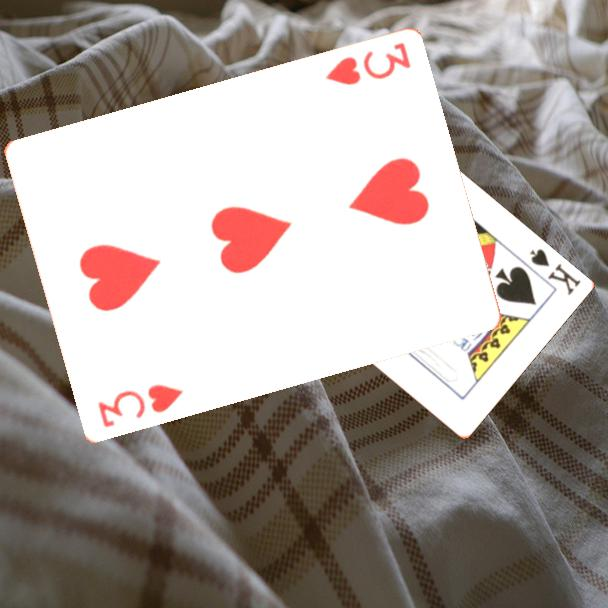h03: (321, 39, 414, 89), (94, 381, 186, 431)
s13: (525, 245, 583, 298)
